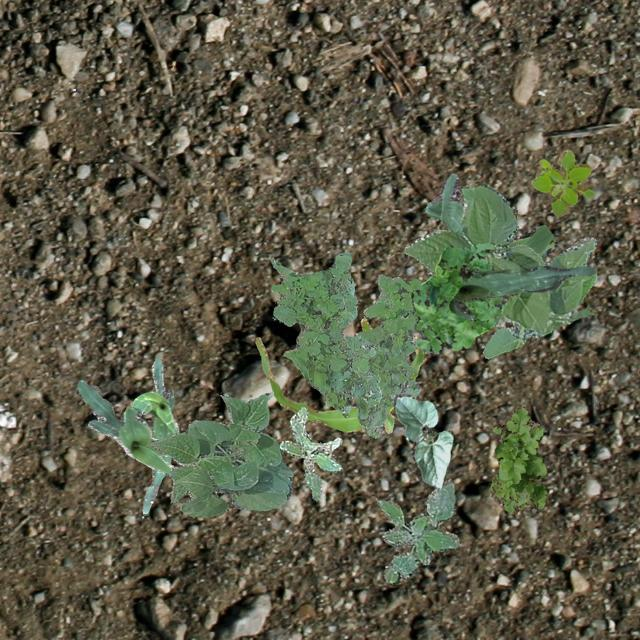crop: (402, 184, 596, 358), (76, 378, 272, 478), (255, 316, 422, 432), (148, 392, 292, 516), (424, 172, 556, 278), (448, 264, 594, 320), (130, 357, 178, 512), (392, 393, 452, 488)
weed: (269, 252, 381, 416), (354, 273, 420, 437), (412, 242, 508, 354), (376, 478, 458, 582), (488, 404, 546, 512), (279, 406, 341, 501), (530, 148, 592, 216)
